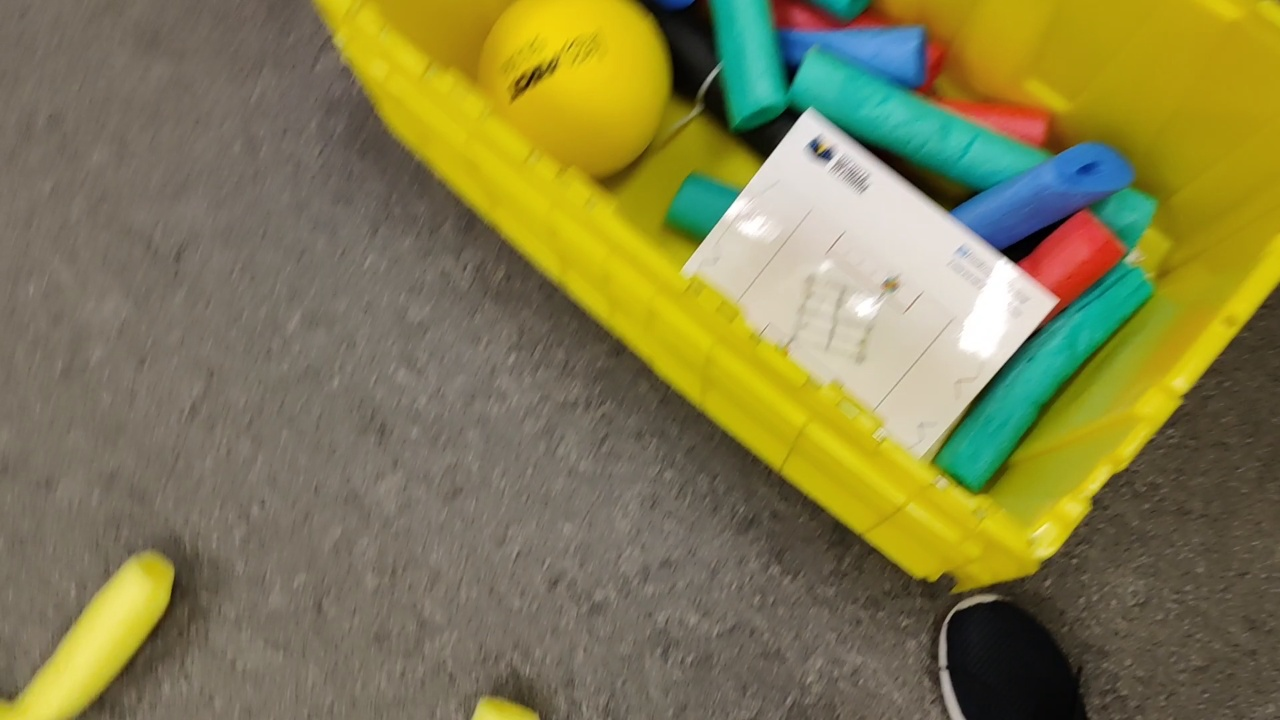Ball: (475, 2, 672, 184)
